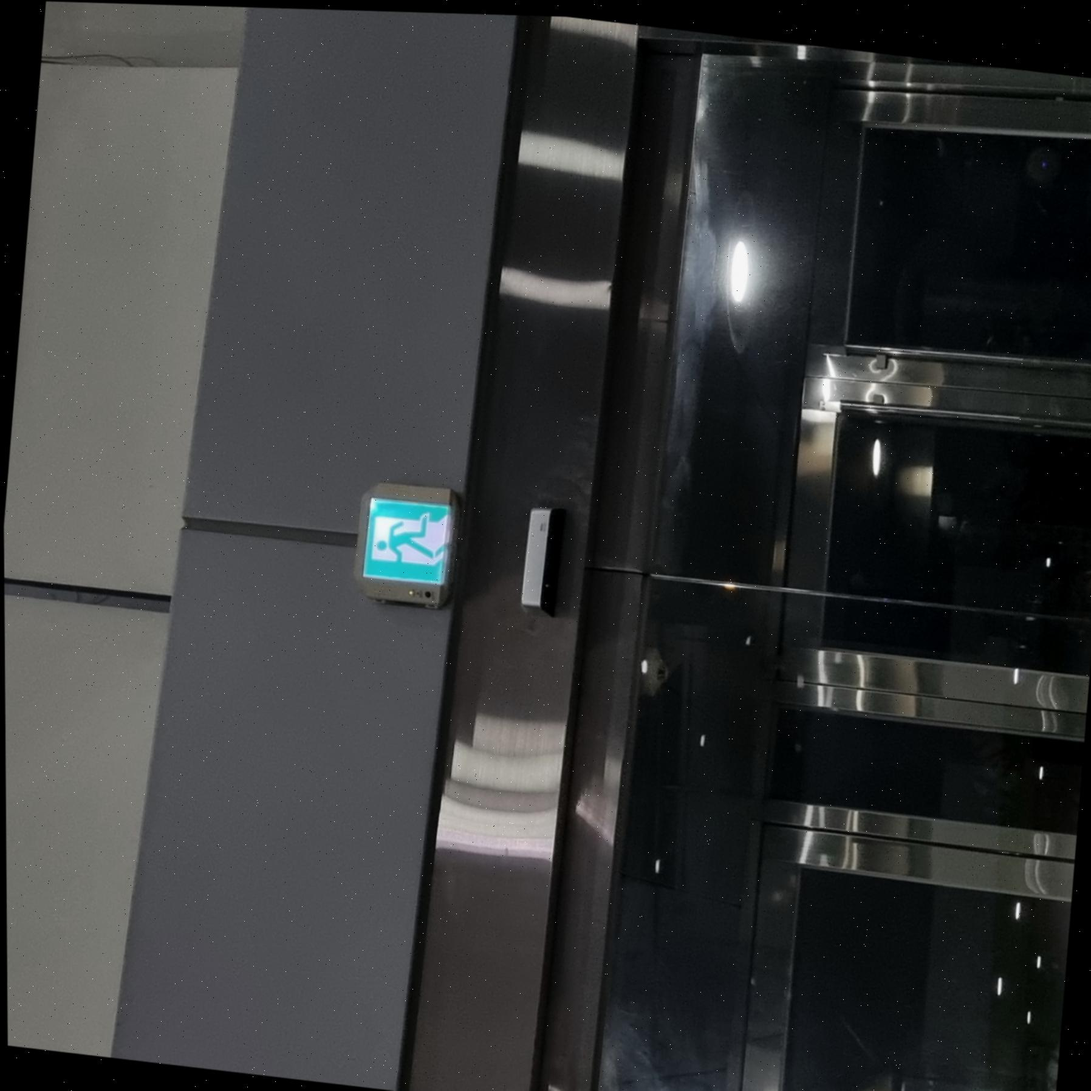emergency_exit: (352, 482, 458, 609)
